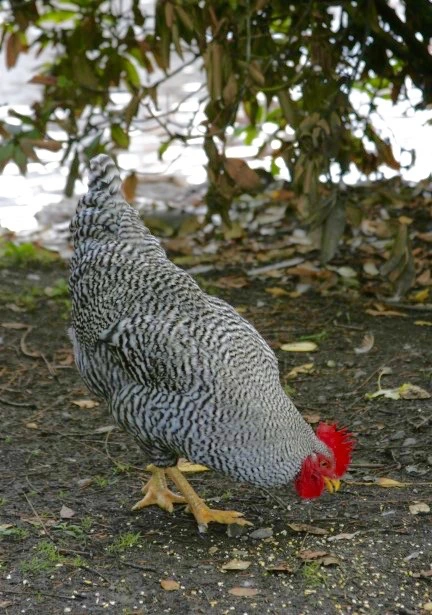chicken: (65, 149, 367, 531)
